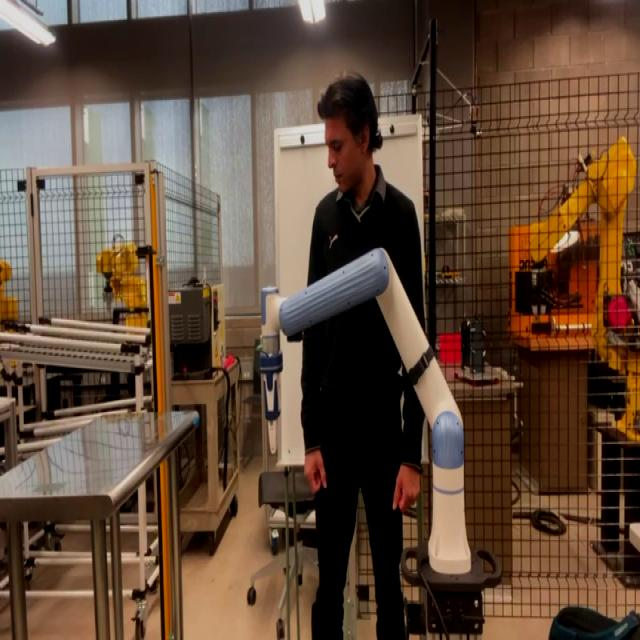robot: (238, 239, 479, 588)
